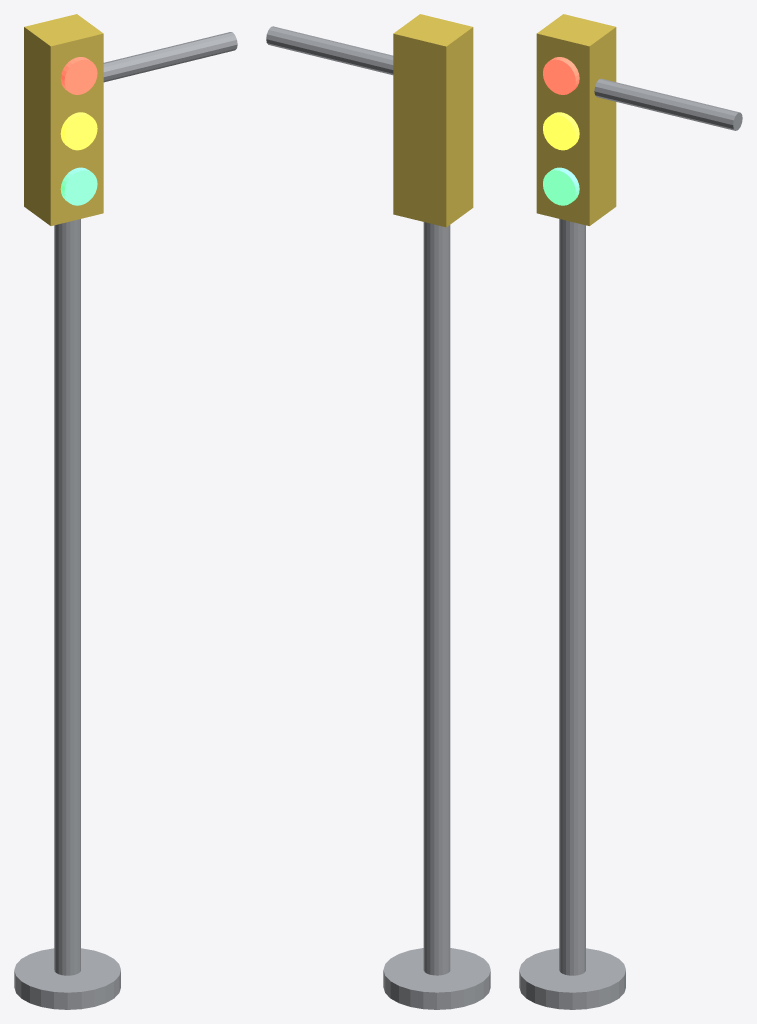
File: traffic_light.glb
3 views of the same model, side by side, from view 1: azimuth 30°, elevation 25°; view 2: azimuth 150°, elevation 25°; view 3: azimuth 330°, elevation 25° (orthographic).
Visible parts, largest first — view 1: Signal_Pole, Signal_Housing, Signal_Base, Signal_Arm, Signal_Lens_Amber, Signal_Lens_Green, Signal_Lens_Red; view 2: Signal_Pole, Signal_Housing, Signal_Base, Signal_Arm; view 3: Signal_Pole, Signal_Housing, Signal_Base, Signal_Arm, Signal_Lens_Green, Signal_Lens_Red, Signal_Lens_Amber.
Part boxes in pixels (box(x1,y1,x2,y2)): Signal_Pole: box(54, 219, 80, 975); Signal_Housing: box(24, 14, 103, 225); Signal_Base: box(14, 948, 120, 1009); Signal_Arm: box(103, 32, 237, 82); Signal_Lens_Amber: box(60, 112, 97, 150); Signal_Lens_Green: box(60, 167, 97, 205); Signal_Lens_Red: box(60, 57, 97, 94); Signal_Pole: box(423, 222, 450, 975); Signal_Housing: box(393, 14, 473, 227); Signal_Base: box(383, 948, 490, 1009); Signal_Arm: box(266, 26, 393, 75); Signal_Pole: box(559, 219, 585, 975); Signal_Housing: box(536, 14, 616, 225); Signal_Base: box(519, 948, 625, 1009); Signal_Arm: box(594, 78, 742, 130); Signal_Lens_Green: box(543, 167, 579, 205); Signal_Lens_Red: box(543, 57, 579, 94); Signal_Lens_Amber: box(543, 112, 579, 150).
Bounding box in the file's own units: 0.64 × 2.76 × 0.28.
